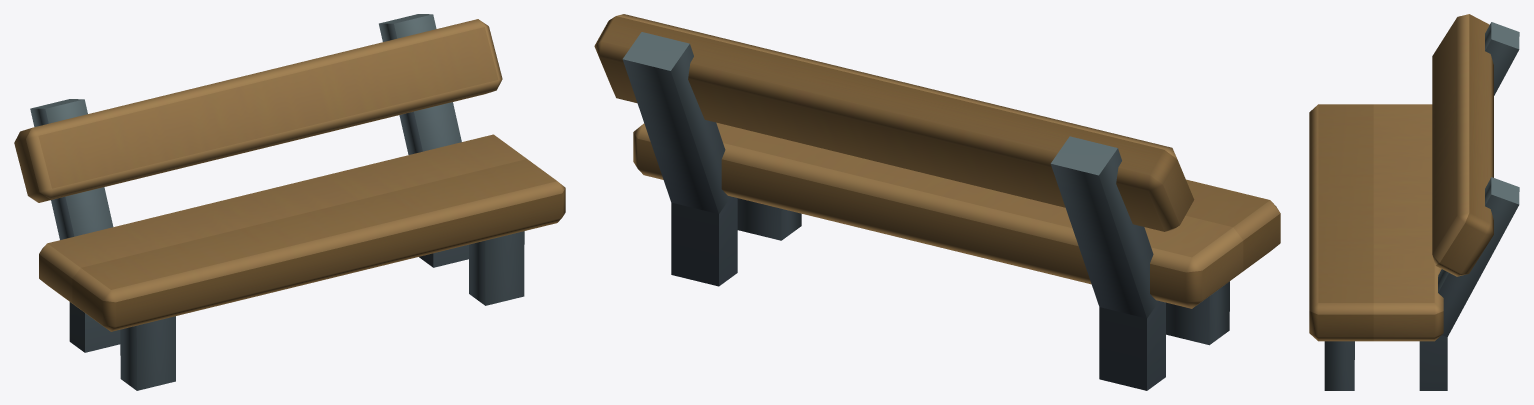
The model's file is banch_park.fbx.
3 views of the same model, side by side, from view 1: azimuth 30°, elevation 25°; view 2: azimuth 150°, elevation 25°; view 3: azimuth 270°, elevation 25° (orthographic). The views are drawn at different scales.
Parts seen in each view (by area): view 1: banch_park; view 2: banch_park; view 3: banch_park.
Part boxes in pixels (bbox=[...]): banch_park: bbox=[14, 14, 565, 390]; banch_park: bbox=[594, 14, 1280, 390]; banch_park: bbox=[1309, 14, 1519, 390].
Bounding box in the file's own units: 171 × 75.52 × 73.13.
